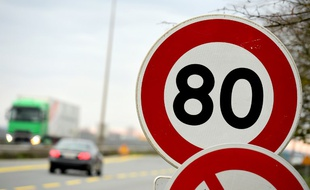Speed_limit_80km: (132, 13, 302, 172)
